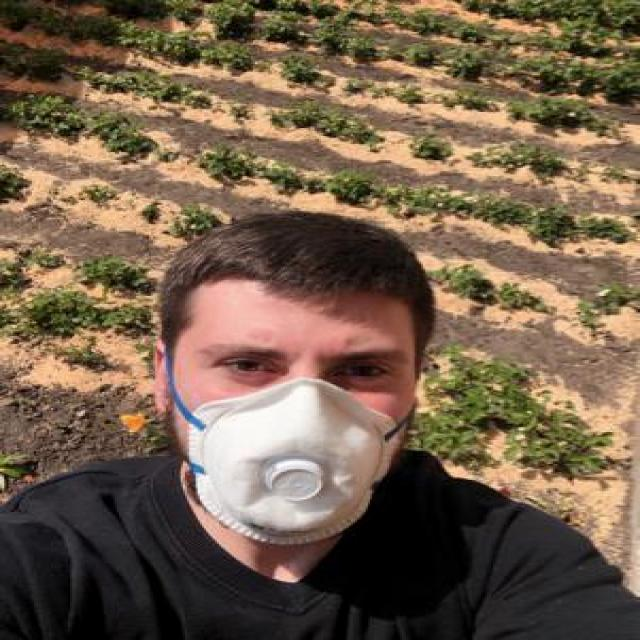face_mask: (180, 309, 412, 542)
head_nohelmet: (157, 196, 436, 314)
person: (6, 190, 640, 640)
